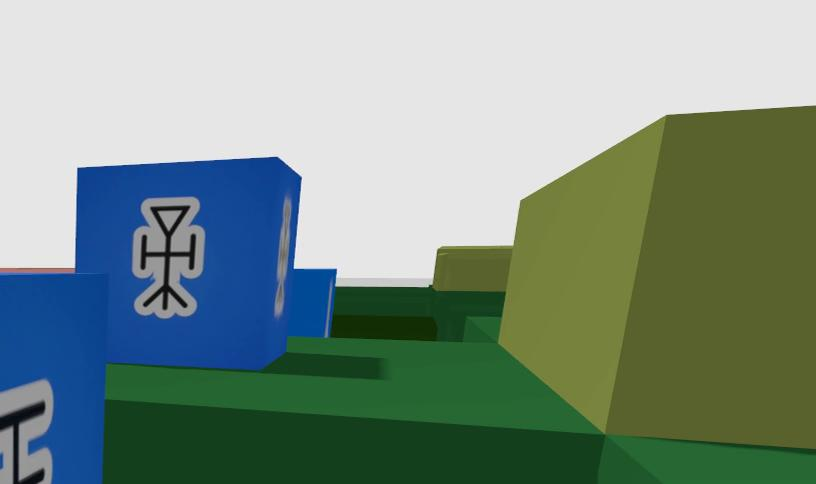KFS_REAL: (74, 159, 300, 369), (0, 274, 105, 484), (132, 197, 204, 318), (0, 379, 53, 484)
